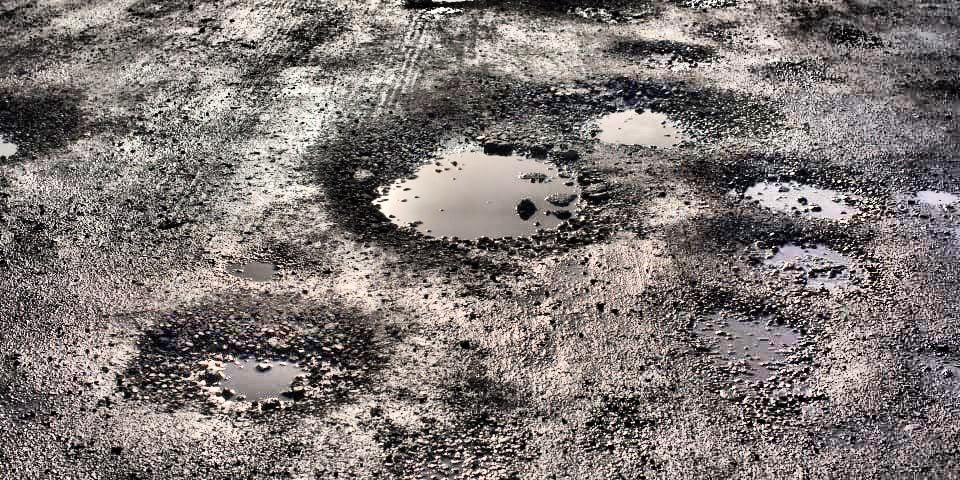pothole: (351, 73, 589, 269), (547, 78, 754, 166), (169, 327, 345, 425), (737, 154, 886, 236), (0, 87, 101, 169), (911, 182, 956, 211)
